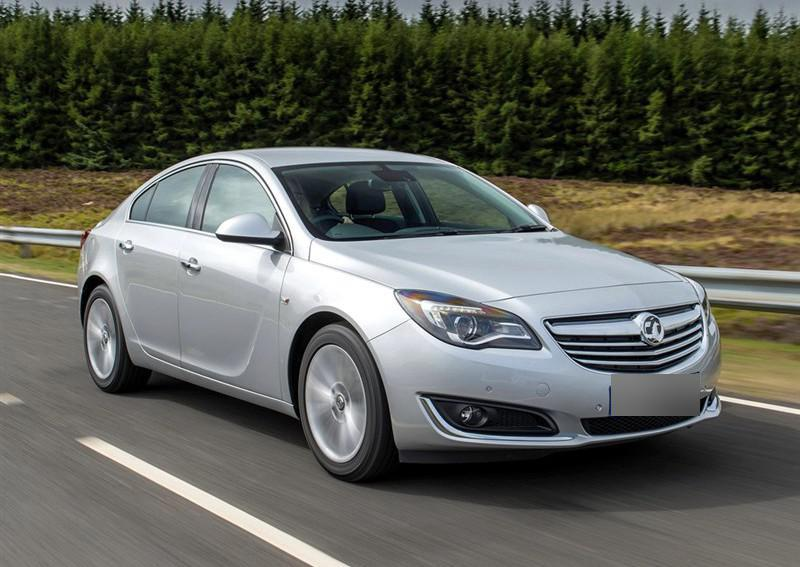Wagon: (78, 147, 725, 485)
